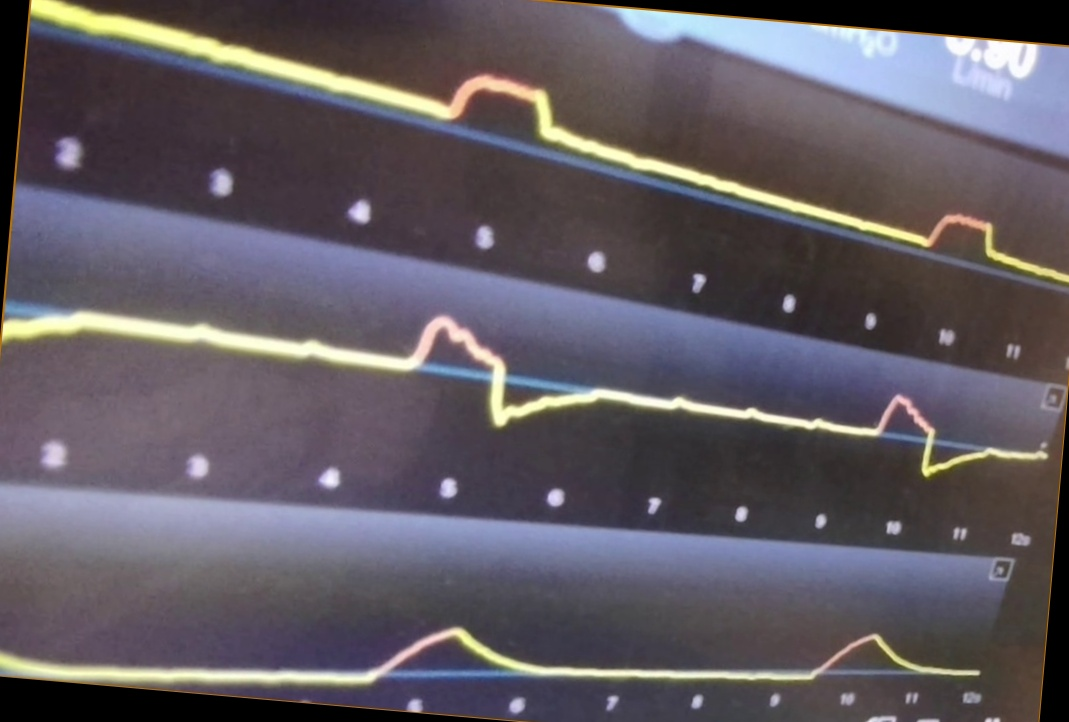Accumulation Flow: (6, 301, 1045, 479)
Volume: (1, 582, 979, 688)
